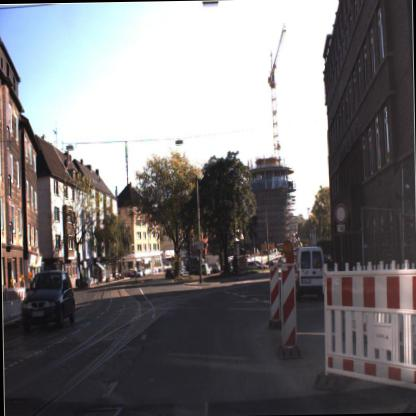prohibitory: (330, 199, 350, 228)
